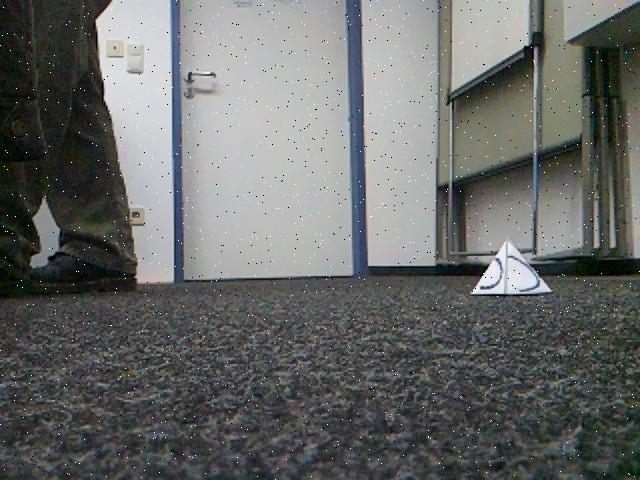C: (467, 238, 554, 296)
